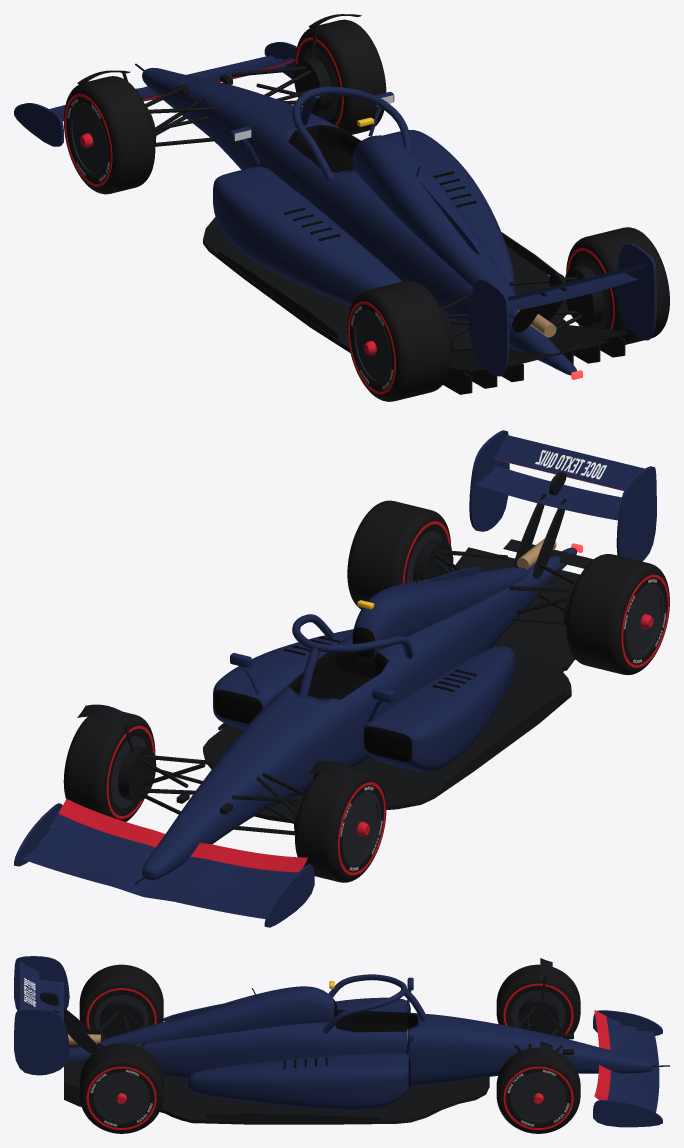
File: carro_f1_ultra.glb
3 renders of one model, top to bottom at view 1: azimuth 30°, elevation 25°; view 2: azimuth 150°, elevation 25°; view 3: azimuth 270°, elevation 25°, orthographic. The views are drawn at different scales.
Parts seen in each view (by area): view 1: Carroceria, Roda_TE, Roda_FE, Roda_FD, Roda_TD; view 2: Carroceria, Roda_TE, Roda_FE, Roda_TD, Roda_FD; view 3: Carroceria, Roda_TD, Roda_FD, Roda_TE, Roda_FE.
Part boxes in pixels (x1=…): Carroceria: x1=14, y1=14, x2=656, y2=394; Roda_TE: x1=347, y1=280, x2=451, y2=401; Roda_FE: x1=63, y1=76, x2=155, y2=194; Roda_FD: x1=295, y1=19, x2=386, y2=134; Roda_TD: x1=566, y1=227, x2=669, y2=344; Carroceria: x1=14, y1=430, x2=656, y2=927; Roda_TE: x1=566, y1=554, x2=669, y2=675; Roda_FE: x1=295, y1=768, x2=386, y2=882; Roda_TD: x1=347, y1=500, x2=451, y2=609; Roda_FD: x1=63, y1=711, x2=155, y2=821; Carroceria: x1=14, y1=956, x2=669, y2=1127; Roda_TD: x1=79, y1=1043, x2=163, y2=1133; Roda_FD: x1=496, y1=1047, x2=580, y2=1133; Roda_TE: x1=79, y1=964, x2=163, y2=1039; Roda_FE: x1=496, y1=964, x2=580, y2=1037.
Size of the model in its own units: 1.38 by 0.6581 by 3.75.
Materials: 13 (2 with a texture image).
